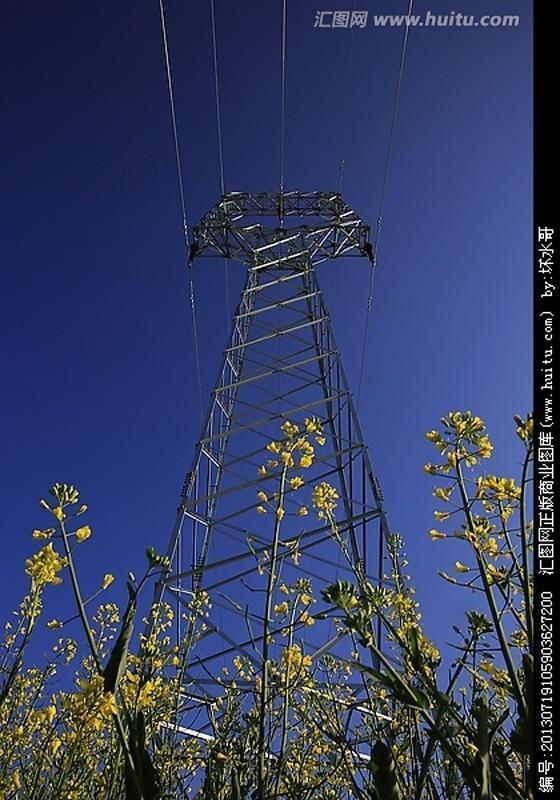power_tower: (155, 188, 447, 743)
